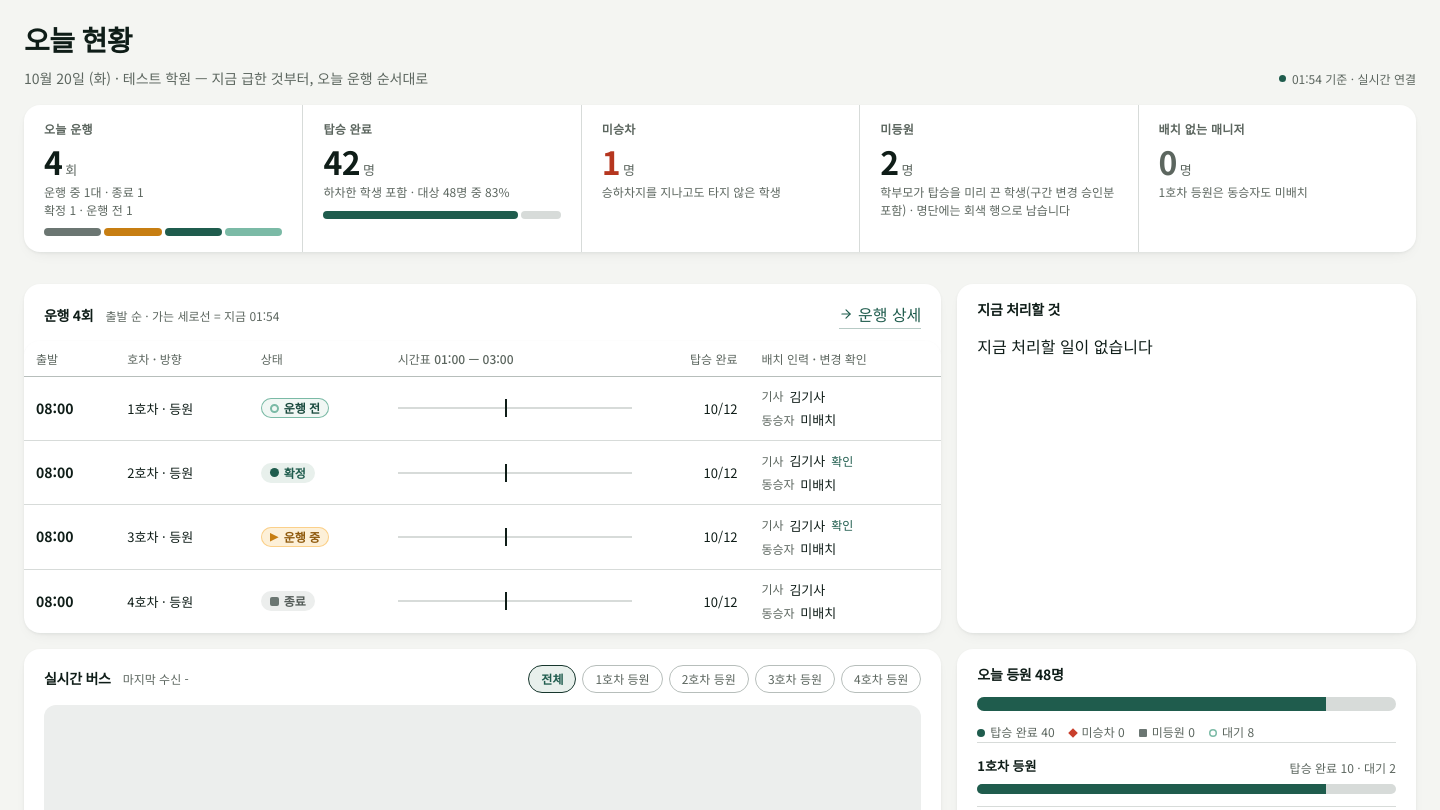
Test case: DashboardPage — 버스 목록 4종 상태·노선 선택 › 이미 고른 버스를 다시 클릭하면 선택을 해제하고 근사 경로 안내도 사라진다
Click the button "3호차 등원": click(795, 679) x1=755 y1=665 x2=835 y2=693
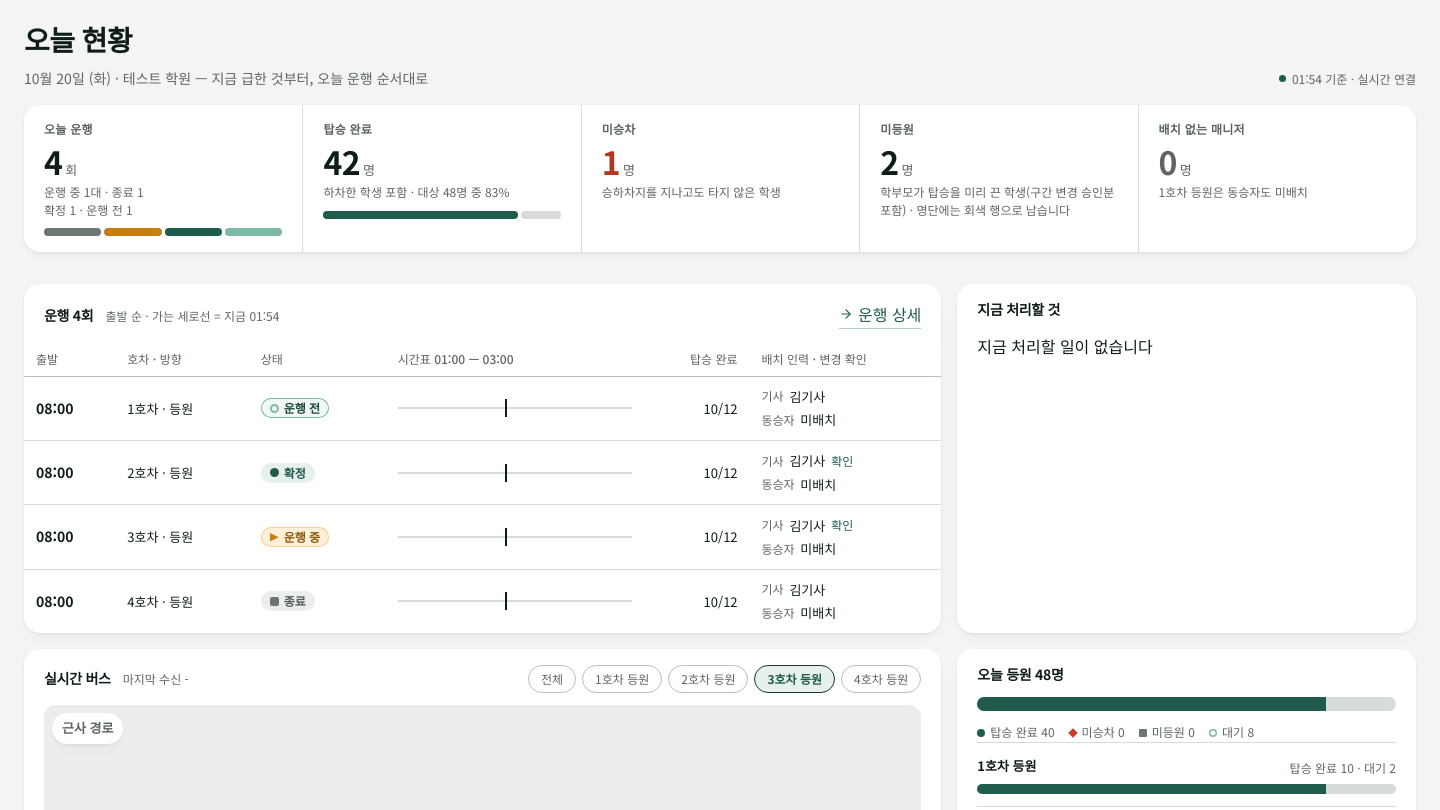
expect the text "근사 경로" is shown: met, box x1=52 y1=713 x2=124 y2=744
Click the button "3호차 등원": click(795, 679) x1=754 y1=665 x2=835 y2=693
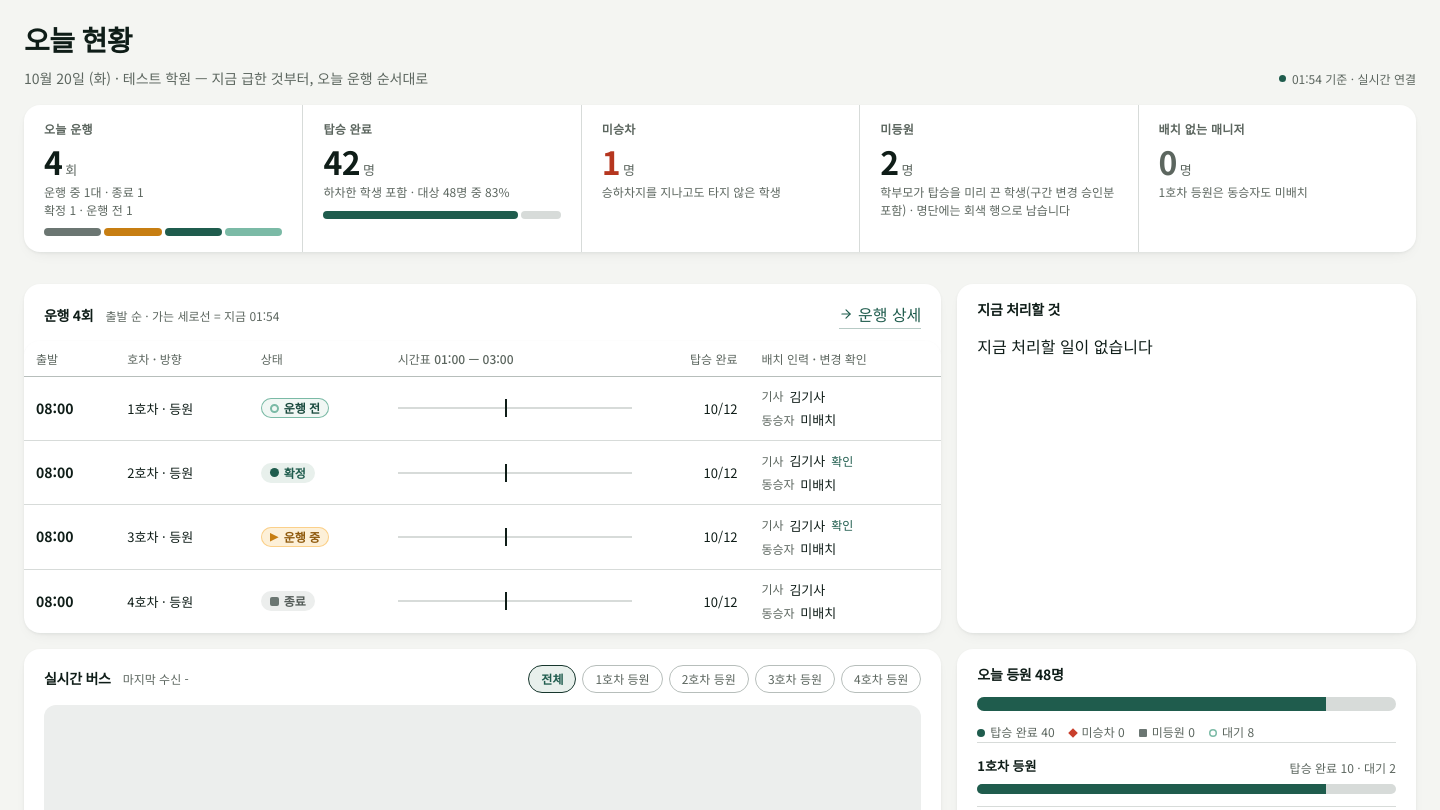
expect the text "근사 경로" is gone: met
